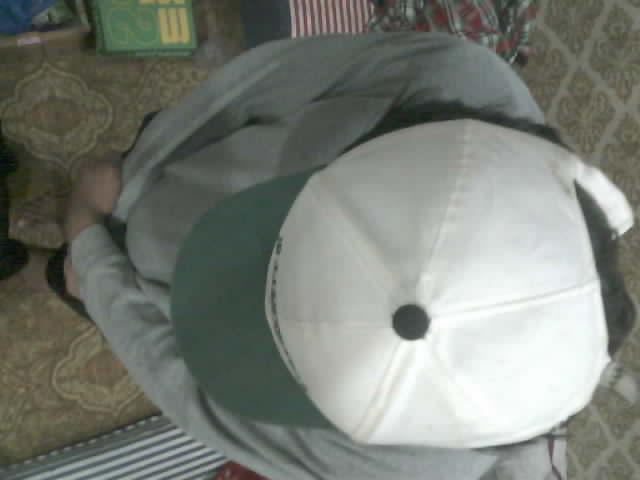cap: (170, 118, 634, 451)
